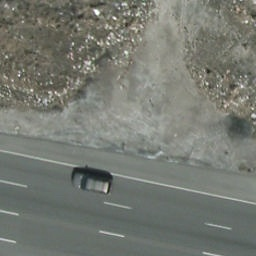car: (68, 165, 115, 197)
